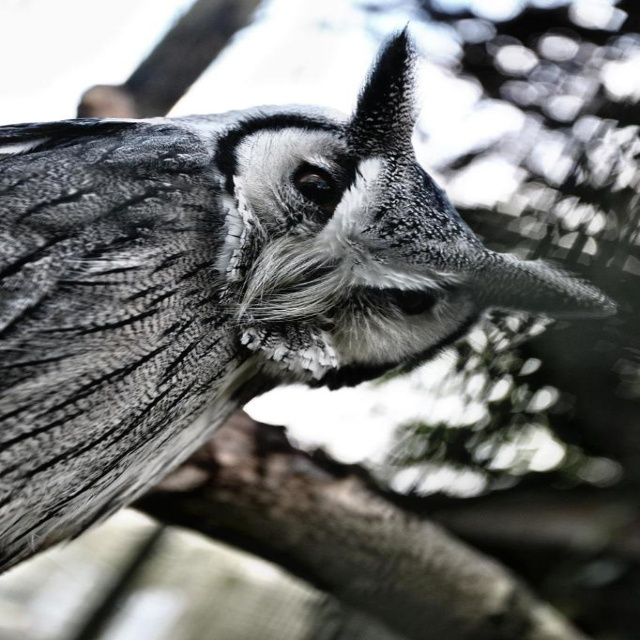Owl: (0, 23, 617, 574)
